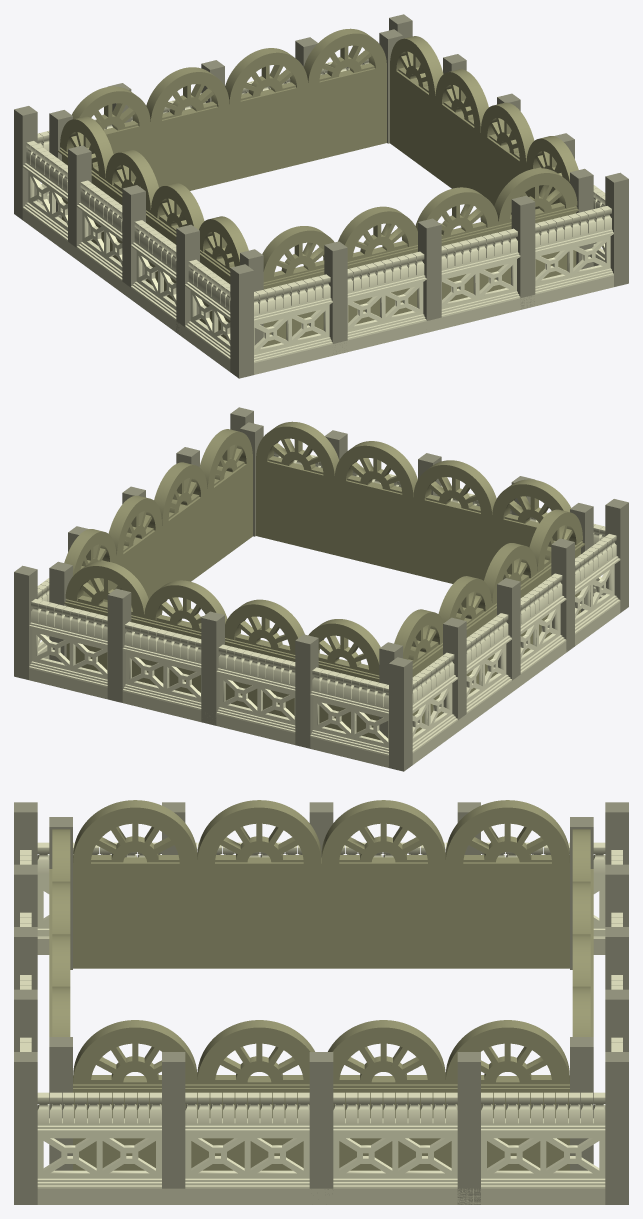
The model's file is pagar_beringin.fbx.
The picture shows the model from 3 angles, top to bottom: view 1: azimuth 30°, elevation 25°; view 2: azimuth 150°, elevation 25°; view 3: azimuth 270°, elevation 25°; orthographic projection. The views are drawn at different scales.
Parts seen in each view (by area): view 1: Circle010, Circle009, Circle011, Circle008, Circle007, Line457, Circle002, Circle006, Circle001, Circle004, Circle003, Circle012 (+50 smaller); view 2: Circle003, Circle004, Circle002, Circle005, Circle006, Circle011, Line512, Circle007, Circle012, Circle009, Circle010, Circle001 (+50 smaller); view 3: Circle014, Circle015, Circle013, Circle016, Line494, Circle006, Circle007, Circle005, Circle008, Line501, Line505, Line497 (+45 smaller).
Part boxes in pixels (bbox=[...]): Circle010: bbox=[225, 48, 308, 181]; Circle009: bbox=[303, 28, 386, 161]; Circle011: bbox=[146, 67, 229, 190]; Circle008: bbox=[390, 36, 443, 175]; Circle007: bbox=[435, 69, 488, 193]; Line457: bbox=[254, 275, 613, 374]; Circle002: bbox=[338, 206, 417, 324]; Circle006: bbox=[480, 102, 534, 214]; Circle001: bbox=[262, 226, 334, 346]; Circle004: bbox=[494, 168, 578, 289]; Circle003: bbox=[415, 187, 499, 301]; Circle012: bbox=[72, 86, 150, 165]; Circle003: bbox=[334, 441, 417, 574]; Circle004: bbox=[256, 421, 339, 554]; Circle002: bbox=[413, 460, 496, 583]; Circle005: bbox=[199, 429, 252, 568]; Circle006: bbox=[154, 462, 207, 586]; Circle011: bbox=[225, 599, 304, 717]; Line512: bbox=[29, 668, 388, 767]; Circle007: bbox=[108, 495, 162, 607]; Circle012: bbox=[308, 619, 380, 739]; Circle009: bbox=[64, 561, 148, 682]; Circle010: bbox=[143, 580, 227, 694]; Circle001: bbox=[492, 479, 570, 558]; Circle014: bbox=[321, 800, 445, 968]; Circle015: bbox=[197, 800, 321, 968]; Circle013: bbox=[445, 800, 569, 968]; Circle016: bbox=[73, 800, 197, 968]; Line494: bbox=[37, 1188, 605, 1204]; Circle006: bbox=[197, 1020, 314, 1170]; Circle007: bbox=[328, 1020, 445, 1170]; Circle005: bbox=[73, 1020, 197, 1170]; Circle008: bbox=[445, 1020, 569, 1170]; Line501: bbox=[185, 1092, 309, 1123]; Line505: bbox=[333, 1092, 457, 1123]; Line497: bbox=[37, 1092, 161, 1123].
Size of the model in its own units: 10400 by 3006 by 10400.
